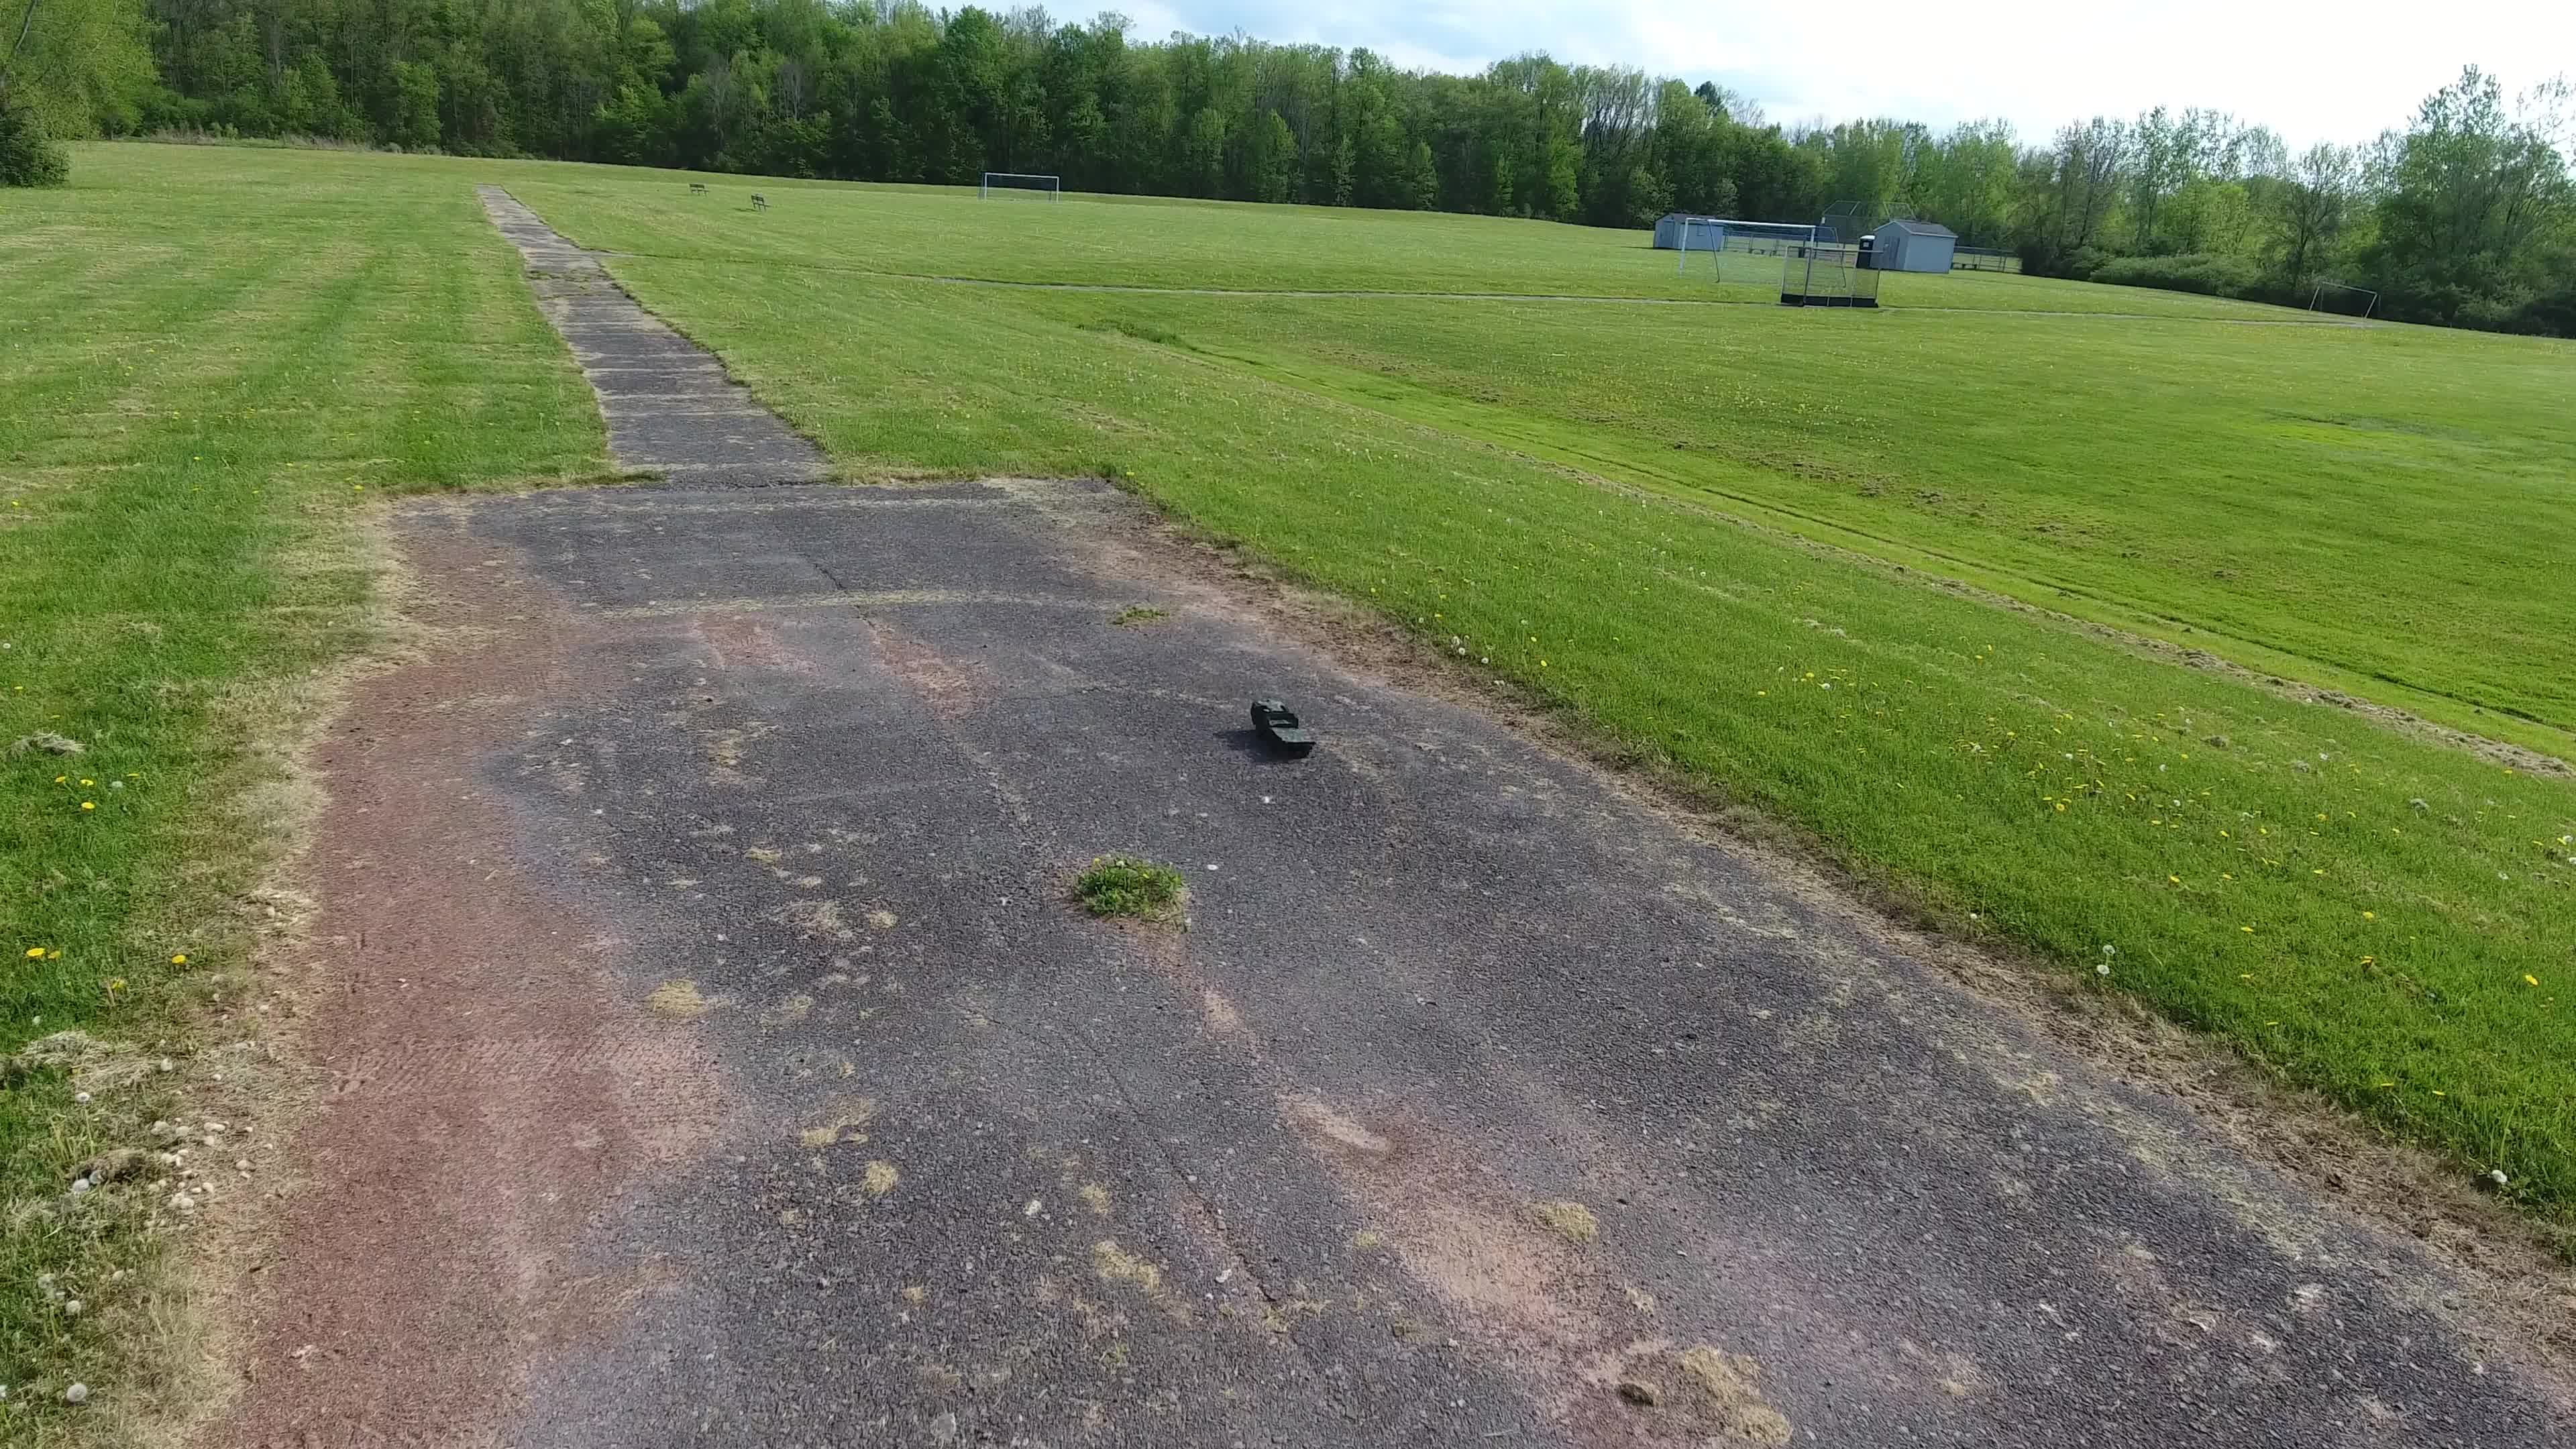transporter9_camo: (1247, 697, 1318, 761)
